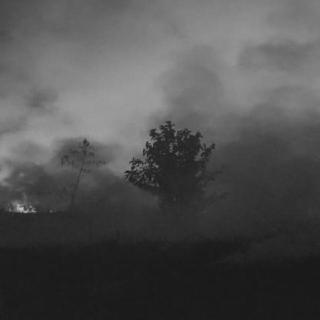Fire: (4, 196, 52, 220)
Smoke: (219, 28, 307, 225), (26, 27, 189, 119)
